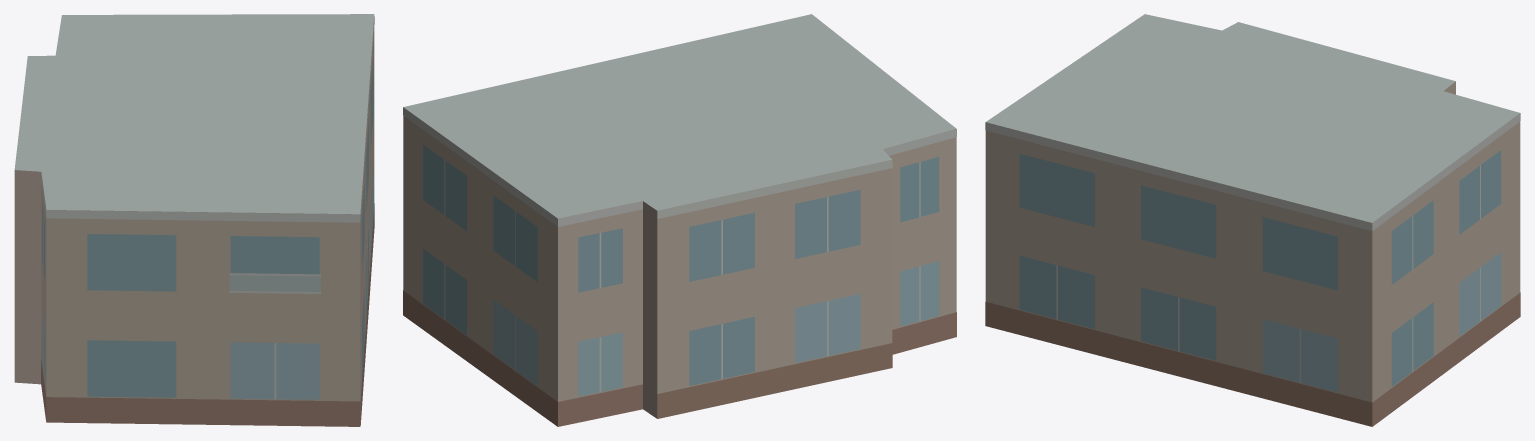
Rendered from survey-upis-32658170.glb.
3 views of the same model, side by side, from view 1: azimuth 30°, elevation 25°; view 2: azimuth 150°, elevation 25°; view 3: azimuth 270°, elevation 25° (orthographic). The views are drawn at different scales.
Visible parts, largest first — view 1: survey-upis-32658170.tmp; view 2: survey-upis-32658170.tmp; view 3: survey-upis-32658170.tmp.
Boxes of the visible parts, x1,y1,x2,y2 form: survey-upis-32658170.tmp: [14, 14, 374, 426]; survey-upis-32658170.tmp: [403, 14, 956, 426]; survey-upis-32658170.tmp: [985, 14, 1520, 426].
Size of the model in its own units: 13.42 by 6.1 by 14.51.
